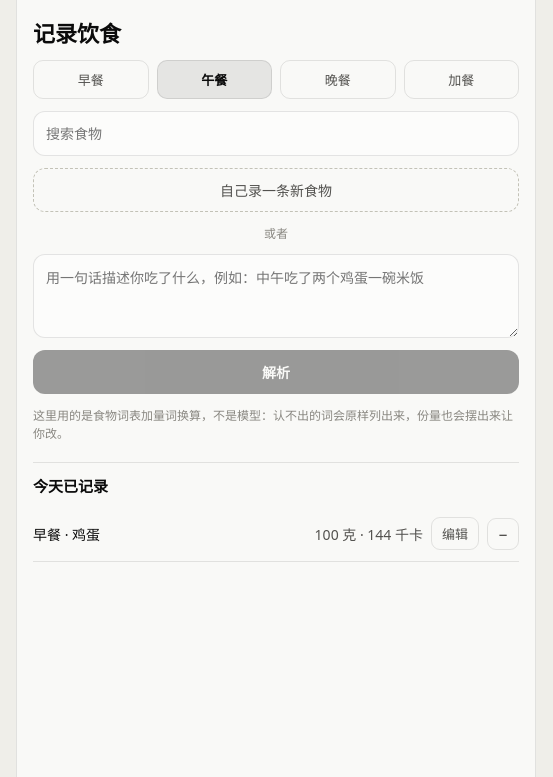
Scenario: 添加饮食页 › 点「编辑」把已保存的记录预填进表单，按钮变成「保存修改」
Click the button with aria-label "编辑鸡蛋" at (455, 534), box [431,517,479,550]
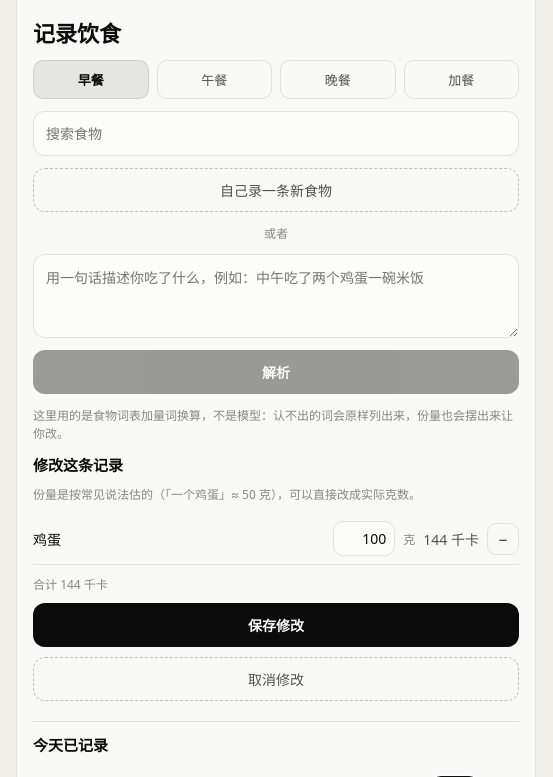
Expected: the heading "修改这条记录" is shown, [33,455,123,475]
Expected: the field named "鸡蛋的克数" holds "100", [333,521,395,556]
Expected: the button "保存修改" is shown, [33,603,519,647]
